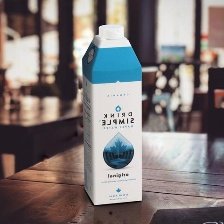carton: (78, 15, 143, 205)
